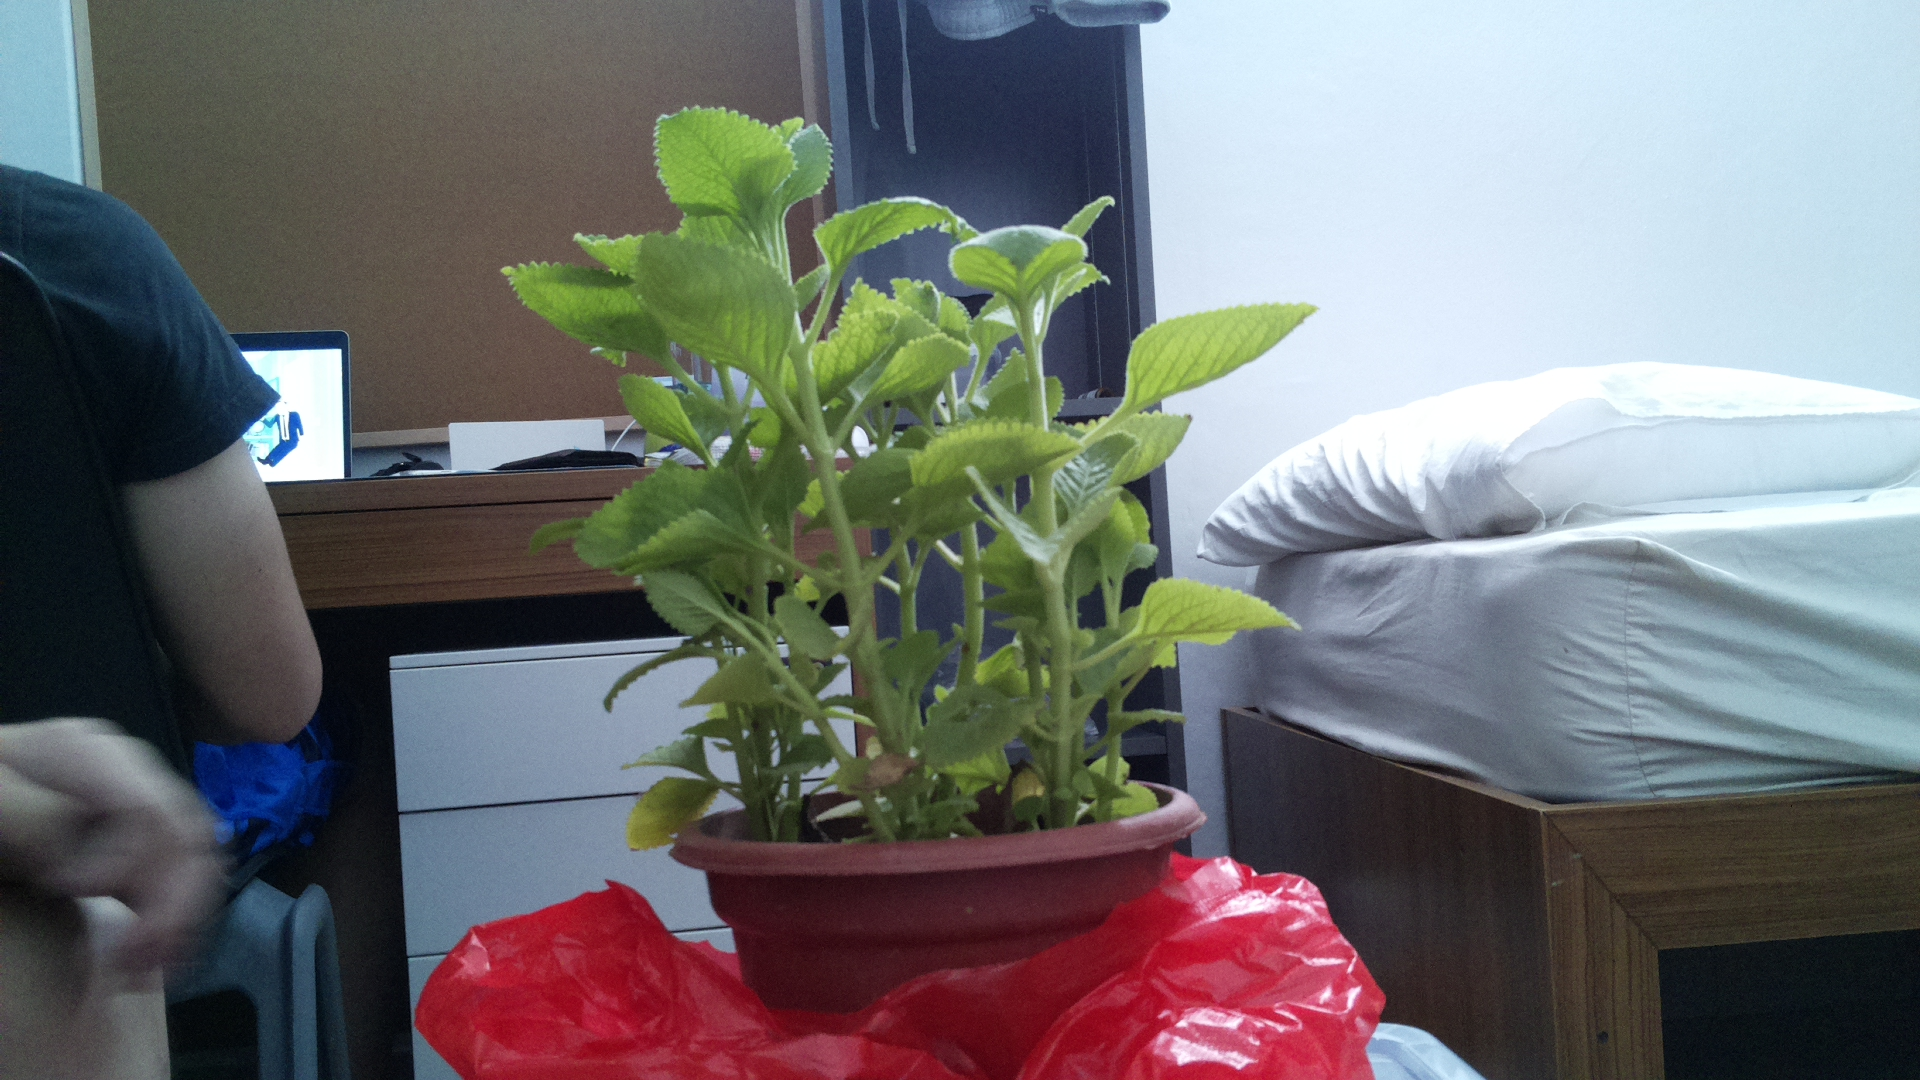leaf: (644, 229, 808, 394), (1100, 293, 1320, 410), (493, 255, 680, 367), (653, 102, 807, 237), (564, 465, 756, 574), (909, 423, 1081, 506), (814, 195, 976, 277), (1131, 579, 1316, 644), (948, 225, 1087, 302), (615, 771, 723, 857), (669, 645, 779, 717), (640, 570, 729, 636), (613, 733, 712, 775)
